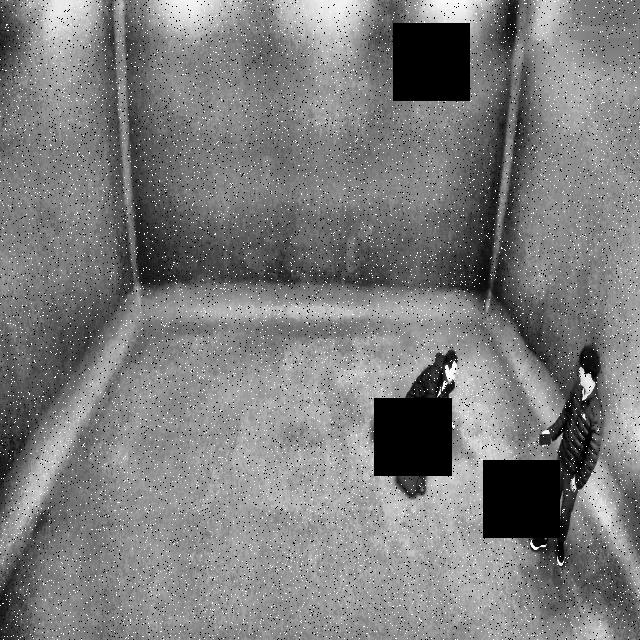assult: (360, 283, 616, 569)
